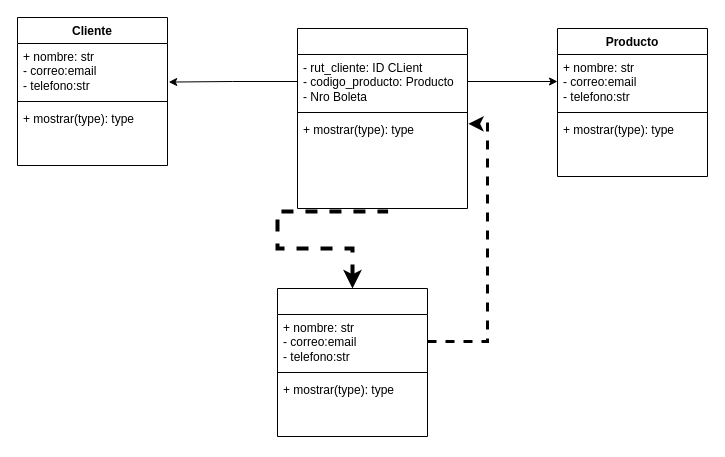
Some shapes in this 725 by 457 pixel diagram are drawn without their labels. Here are the shapes that lost their labels. From the top down, the box of each, then its label:
(296, 28, 468, 208): Pedido
(276, 288, 428, 436): Factura
